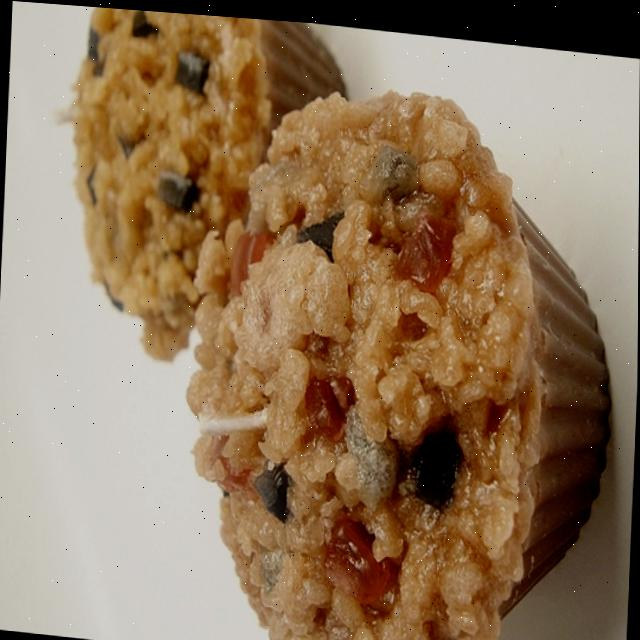炸货点心: (44, 3, 610, 640)
面包点心: (44, 3, 610, 640)
